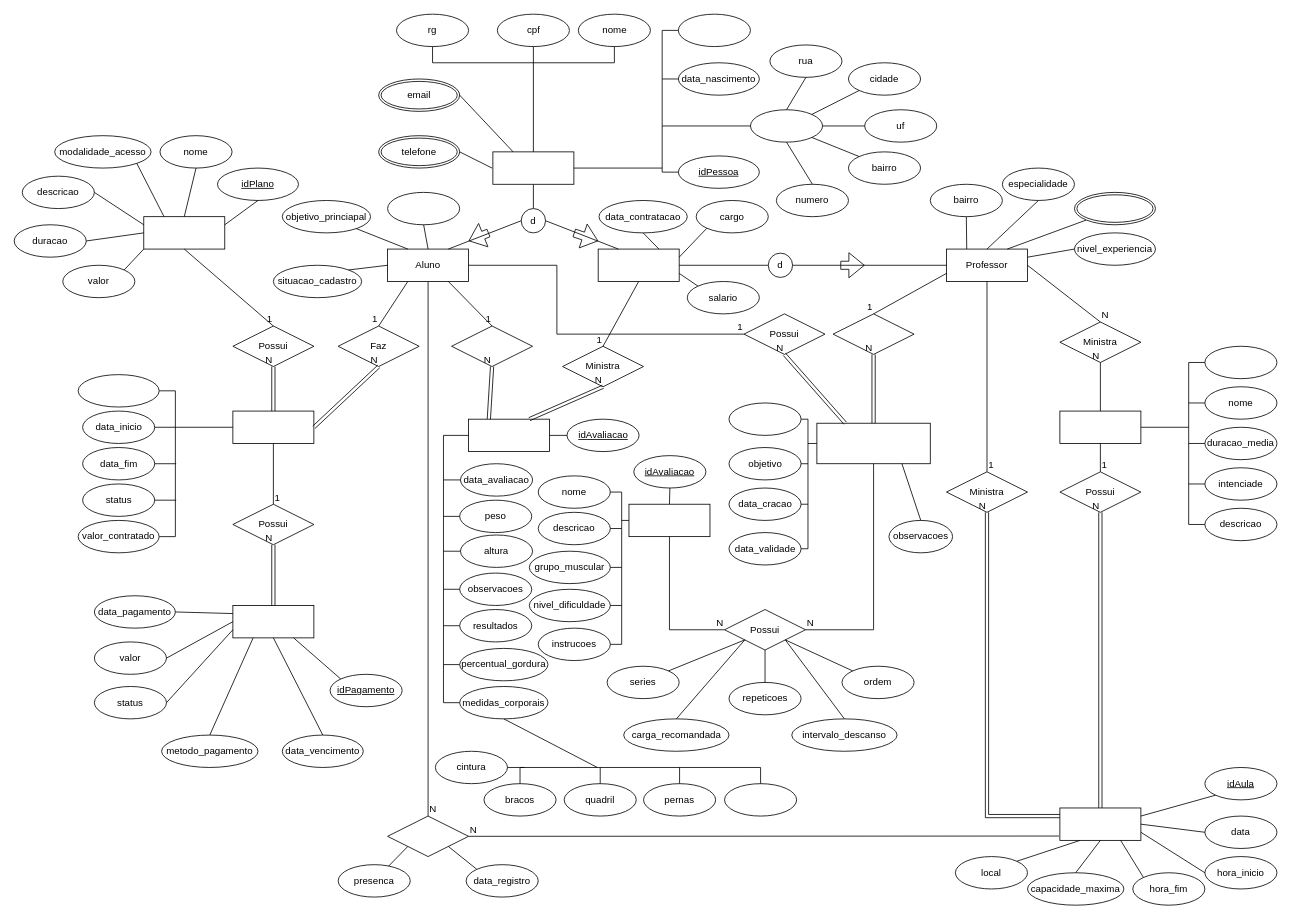
The diagram is 1291 pixels wide and 919 high, and some of its shapes have lost their labels. Each missing label, with the centre of its shape:
Aula: the point at 1100,823
Avaliacao_Fisica: the point at 509,435
data_ingresso: the point at 423,208
disponibilidade: the point at 1114,208
Elabora: the point at 873,333
endereco: the point at 786,125
Exercicio: the point at 669,520
Funcionario: the point at 638,264
idMaticula: the point at 118,390
idModalidade: the point at 1240,362
idPrograma: the point at 764,418
Matricula: the point at 273,426
Modalidade: the point at 1100,426
Pagamento: the point at 273,621
Participa: the point at 428,836
peito: the point at 760,799
Pessoa: the point at 533,167
Plano: the point at 184,232
Programa_Treinamento: the point at 873,443
Realiza: the point at 492,346
sexo: the point at 714,30
